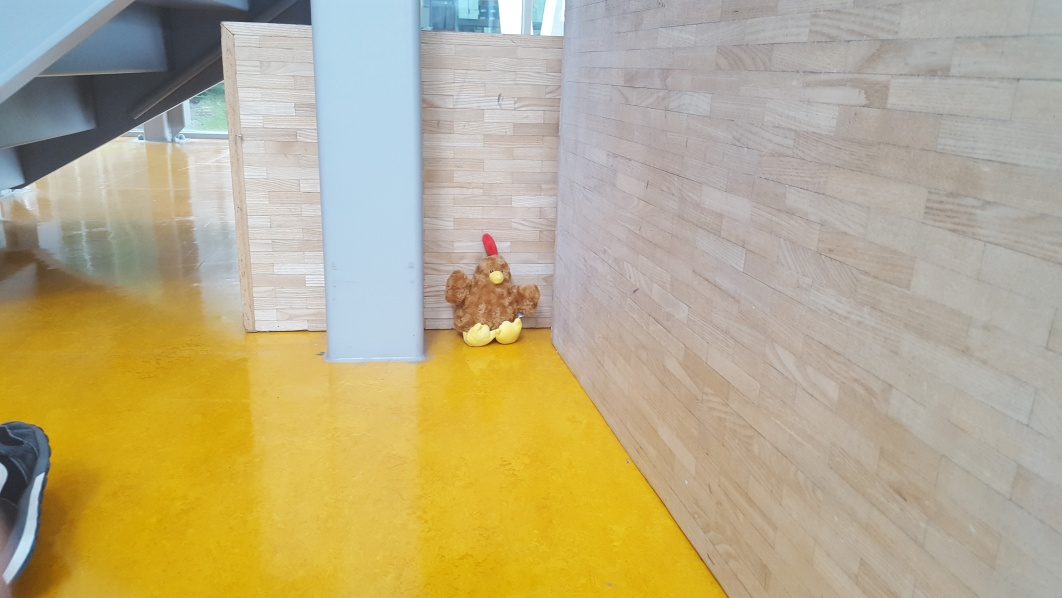chicken: (446, 235, 540, 344)
